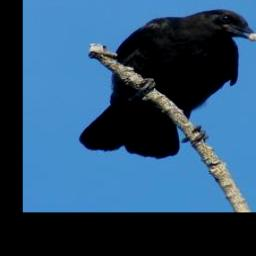Crow: (77, 8, 256, 160)
